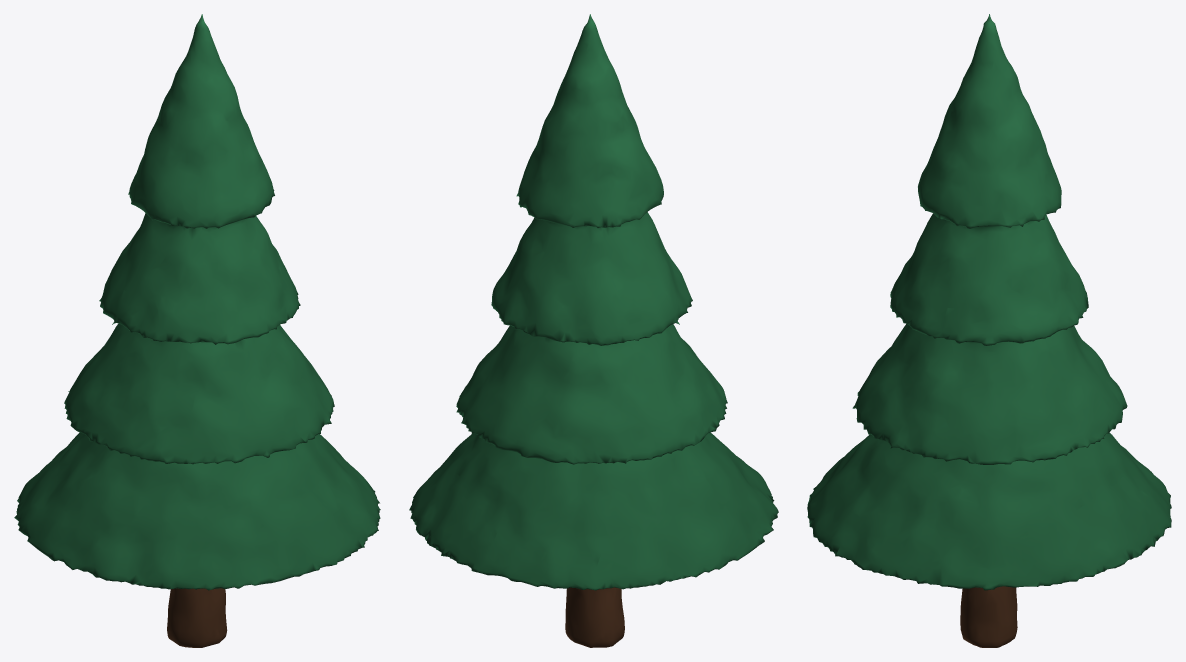
The model's file is tree_cedar.glb.
The picture shows the model from 3 angles, left to right: view 1: azimuth 30°, elevation 25°; view 2: azimuth 150°, elevation 25°; view 3: azimuth 270°, elevation 25°; orthographic projection.
Visible parts, largest first — view 1: tree_cedar; view 2: tree_cedar; view 3: tree_cedar.
Boxes of the visible parts, x1,y1,x2,y2 form: tree_cedar: (14, 14, 380, 647); tree_cedar: (409, 14, 778, 647); tree_cedar: (807, 14, 1171, 647).
Bounding box in the file's own units: 3.35 × 6.26 × 3.3.
